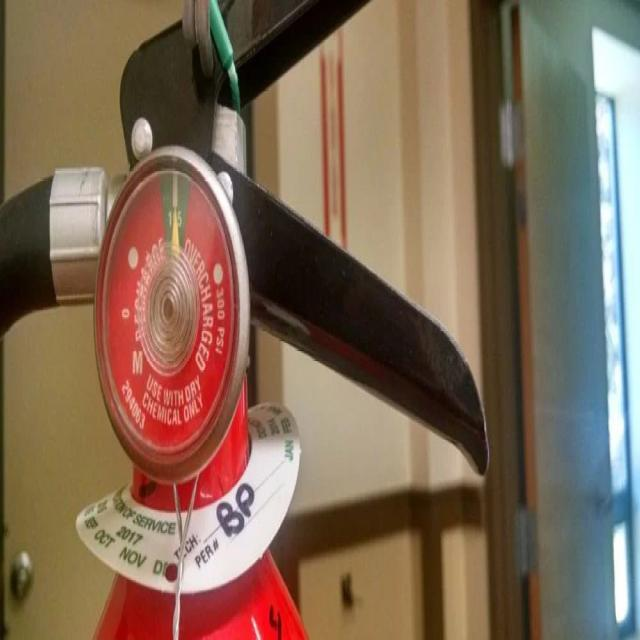pressure gauge: (96, 147, 247, 481)
